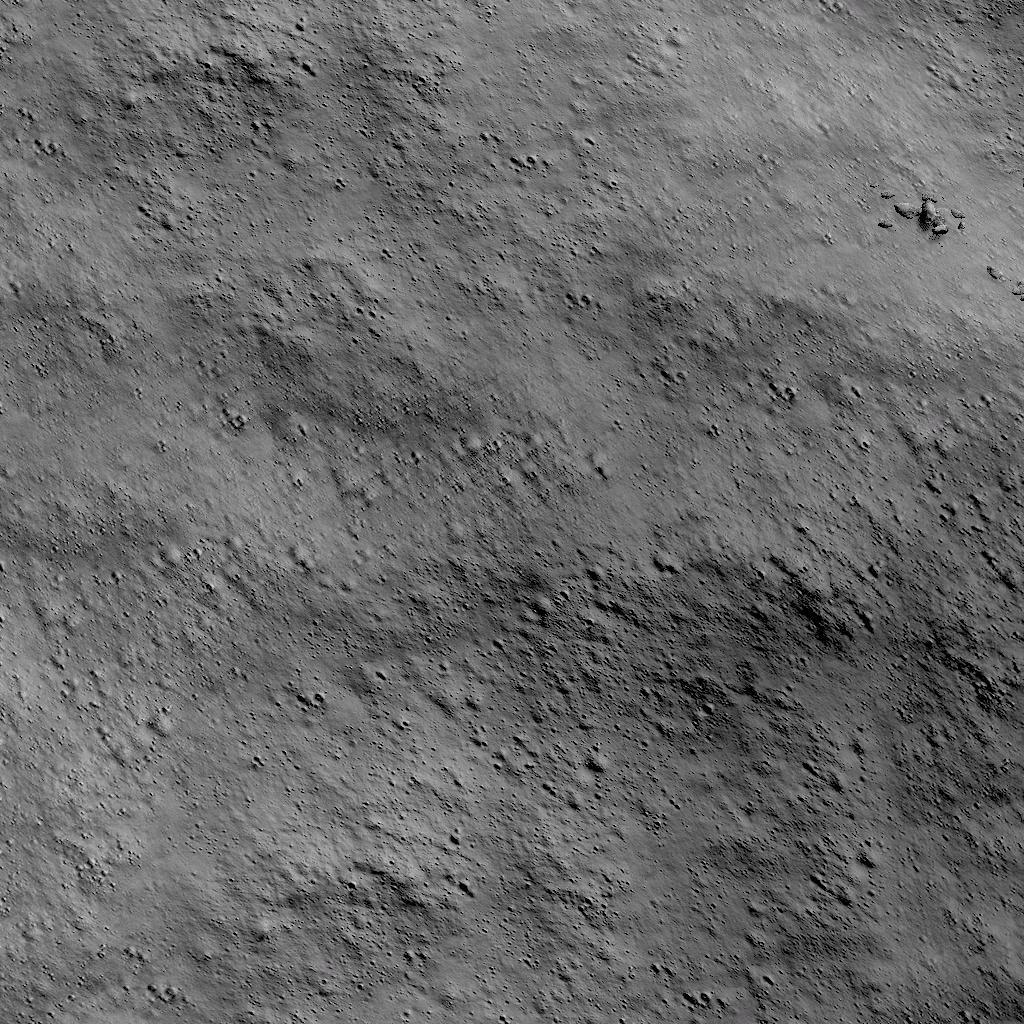Plan surface: (7, 326, 1024, 1024), (5, 0, 862, 309), (879, 0, 1024, 176)
